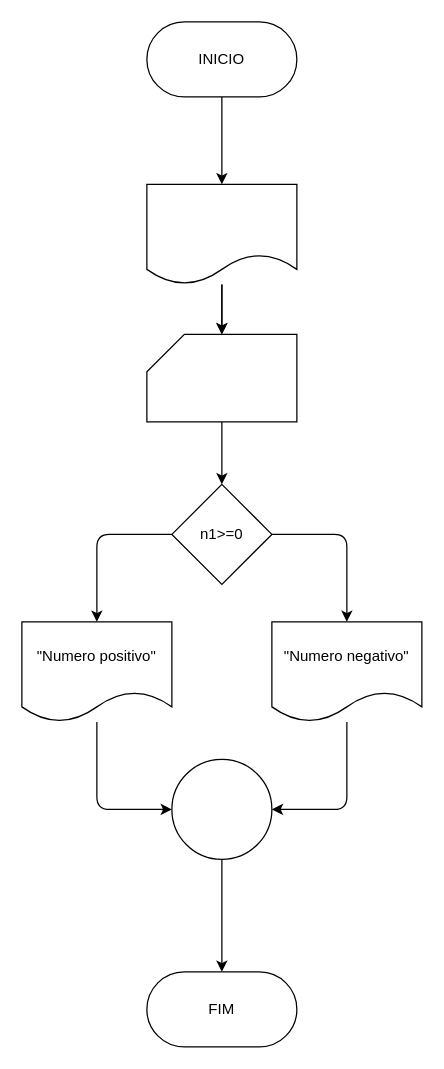
The diagram is 444 pixels wide and 1069 high, and some of its shapes have lost their labels. The shapes that lost their labels are listed below. From the top down, each one's centre as x and y in pixels, then its label:
(x=221, y=233): "DIGITE UM NÚMERO"
(x=221, y=377): n1
